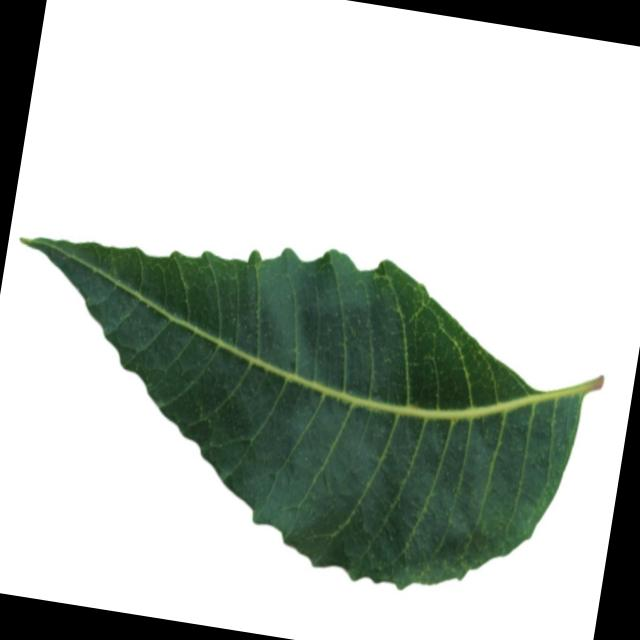Medicinal-Neem: (0, 191, 619, 617)
